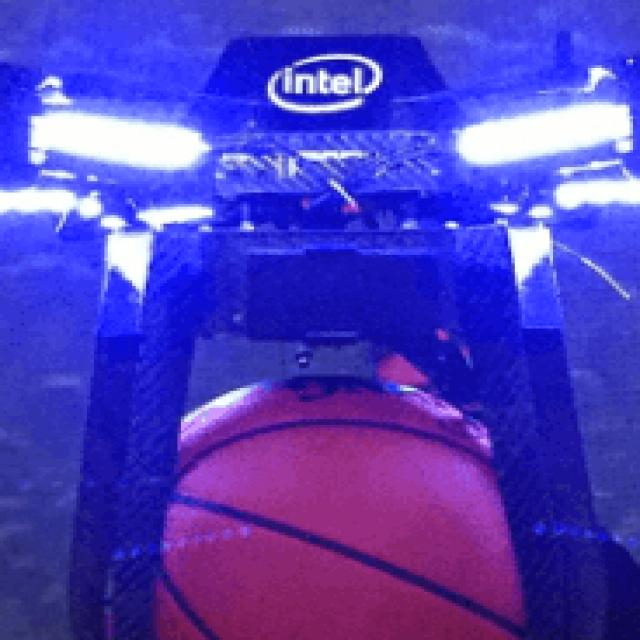drone: (0, 37, 640, 382)
